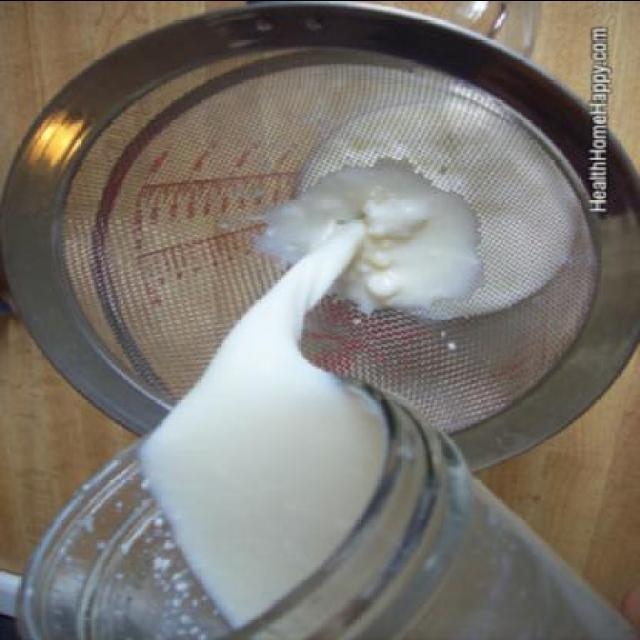Milk: (130, 291, 638, 640), (297, 99, 585, 321)
